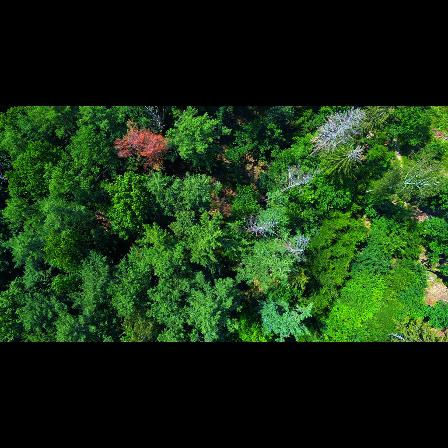Dead: (310, 108, 364, 156), (366, 167, 437, 198), (274, 162, 315, 200), (240, 212, 285, 242)
